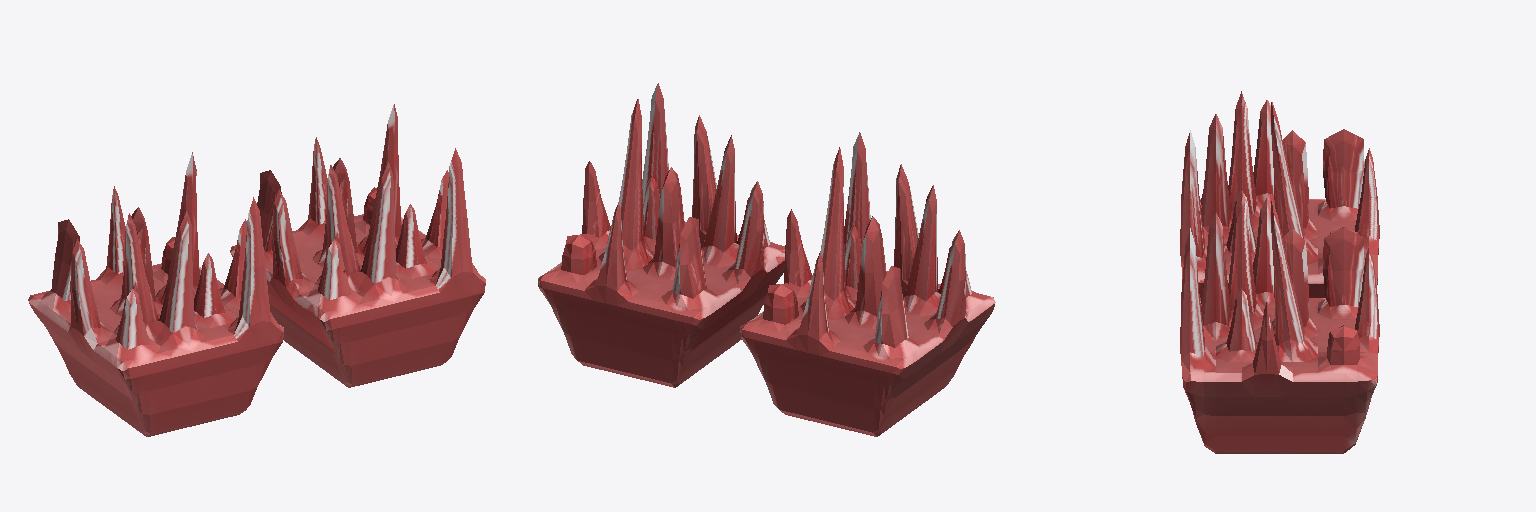
The picture shows the model from 3 angles: view 1: azimuth 30°, elevation 25°; view 2: azimuth 150°, elevation 25°; view 3: azimuth 270°, elevation 25°; orthographic projection.
Visible parts, largest first — view 1: solid; view 2: solid; view 3: solid.
Part boxes in pixels (x1,y1,x2,y2): solid: (28,104,485,436); solid: (538,83,995,436); solid: (1180,91,1379,453).
Bounding box in the file's own units: 1.74 × 1.08 × 0.7917.
Materials: 1 (1 with a texture image).